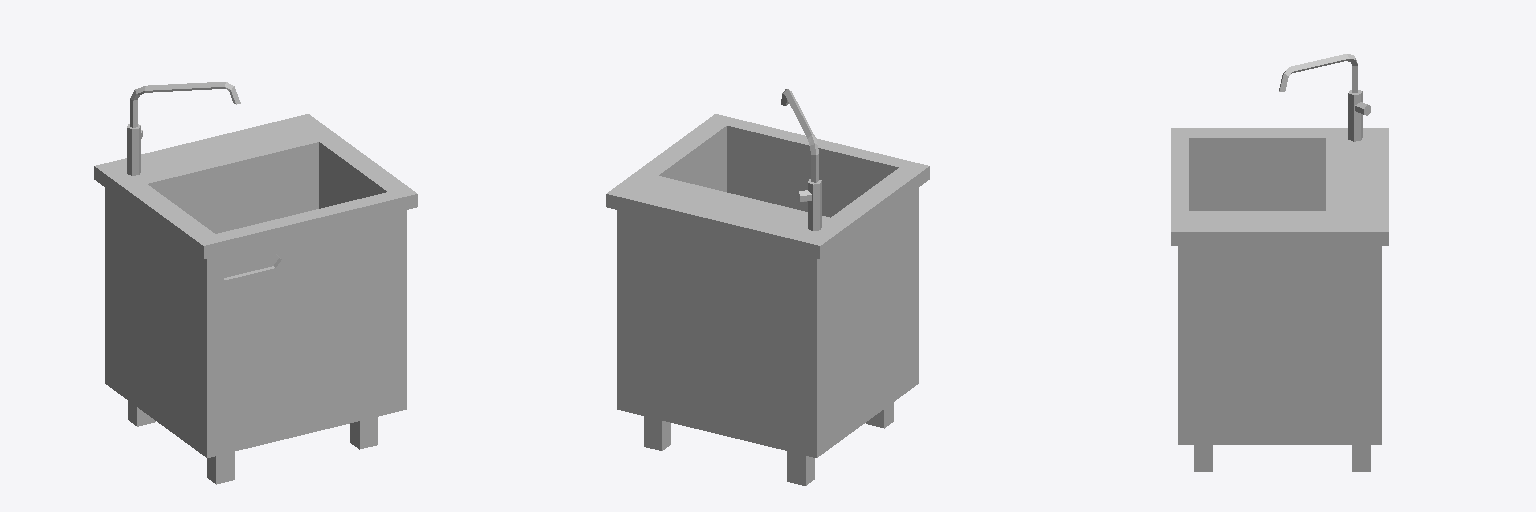
The model's file is kitchen_sink_001.obj.
The picture shows the model from 3 angles: view 1: azimuth 30°, elevation 25°; view 2: azimuth 150°, elevation 25°; view 3: azimuth 270°, elevation 25°; orthographic projection.
Visible parts, largest first — view 1: kitchen_sink_001; view 2: kitchen_sink_001; view 3: kitchen_sink_001.
Boxes of the visible parts, <box> form: kitchen_sink_001: <box>94,82,417,484</box>; kitchen_sink_001: <box>606,89,929,485</box>; kitchen_sink_001: <box>1171,54,1388,471</box>.
Bounding box in the file's own units: 1.08 × 1.71 × 0.9566.